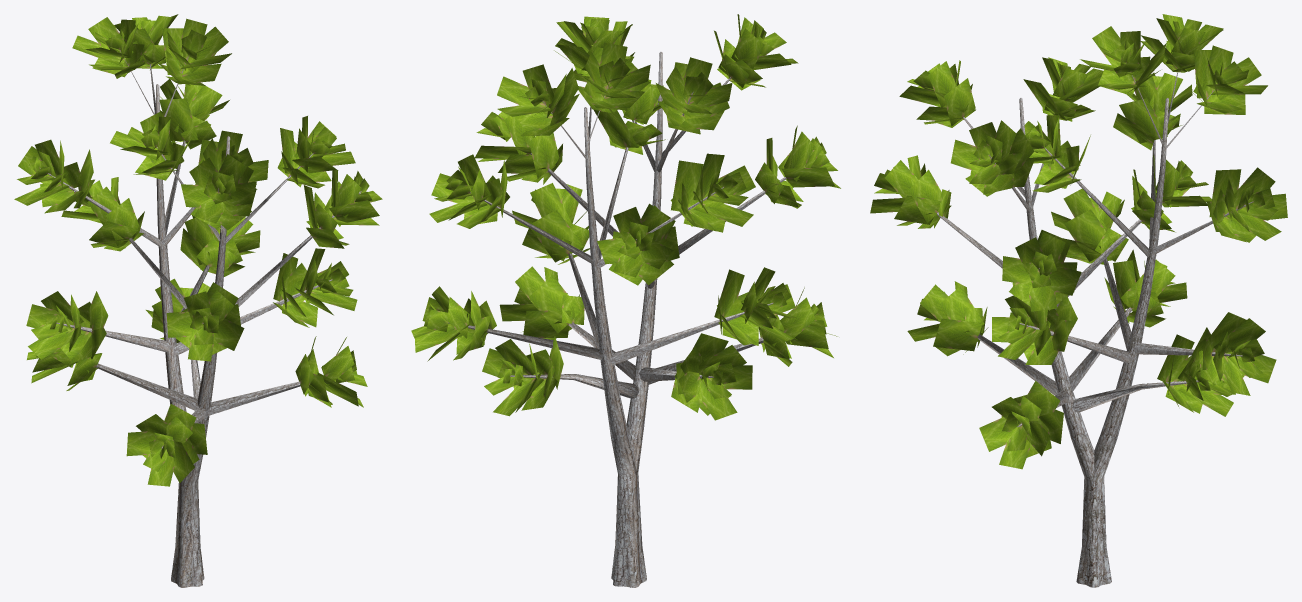
3 renders of one model, left to right at view 1: azimuth 30°, elevation 25°; view 2: azimuth 150°, elevation 25°; view 3: azimuth 270°, elevation 25°, orthographic. The views are drawn at different scales.
Parts seen in each view (by area): view 1: Tree_0; view 2: Tree_0; view 3: Tree_0.
Boxes of the visible parts, box(x1,y1,x2,y2) form: Tree_0: box(14, 14, 382, 587); Tree_0: box(411, 14, 840, 587); Tree_0: box(870, 14, 1287, 587).
Size of the model in its own units: 70.23 by 113 by 77.17.
